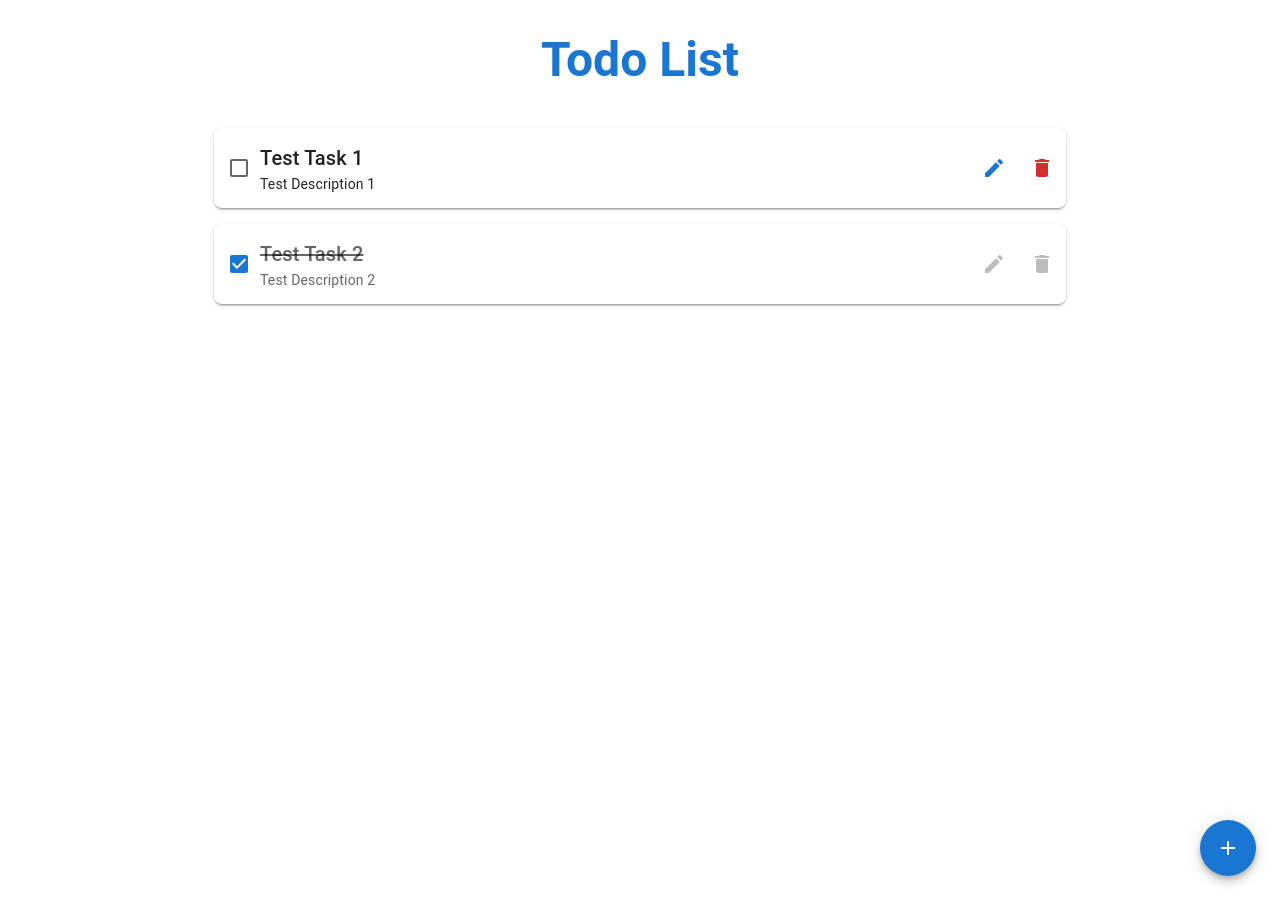
TodoList Component › should edit a task successfully
The width and height of the screenshot is (1280, 900).
Expected: the heading "Test Task 1" is shown, [260,146,364,170]
Note: Click edit button
Click the button named "edit" in the row of "Test Task 1" at (994, 168), box [974,148,1014,188]
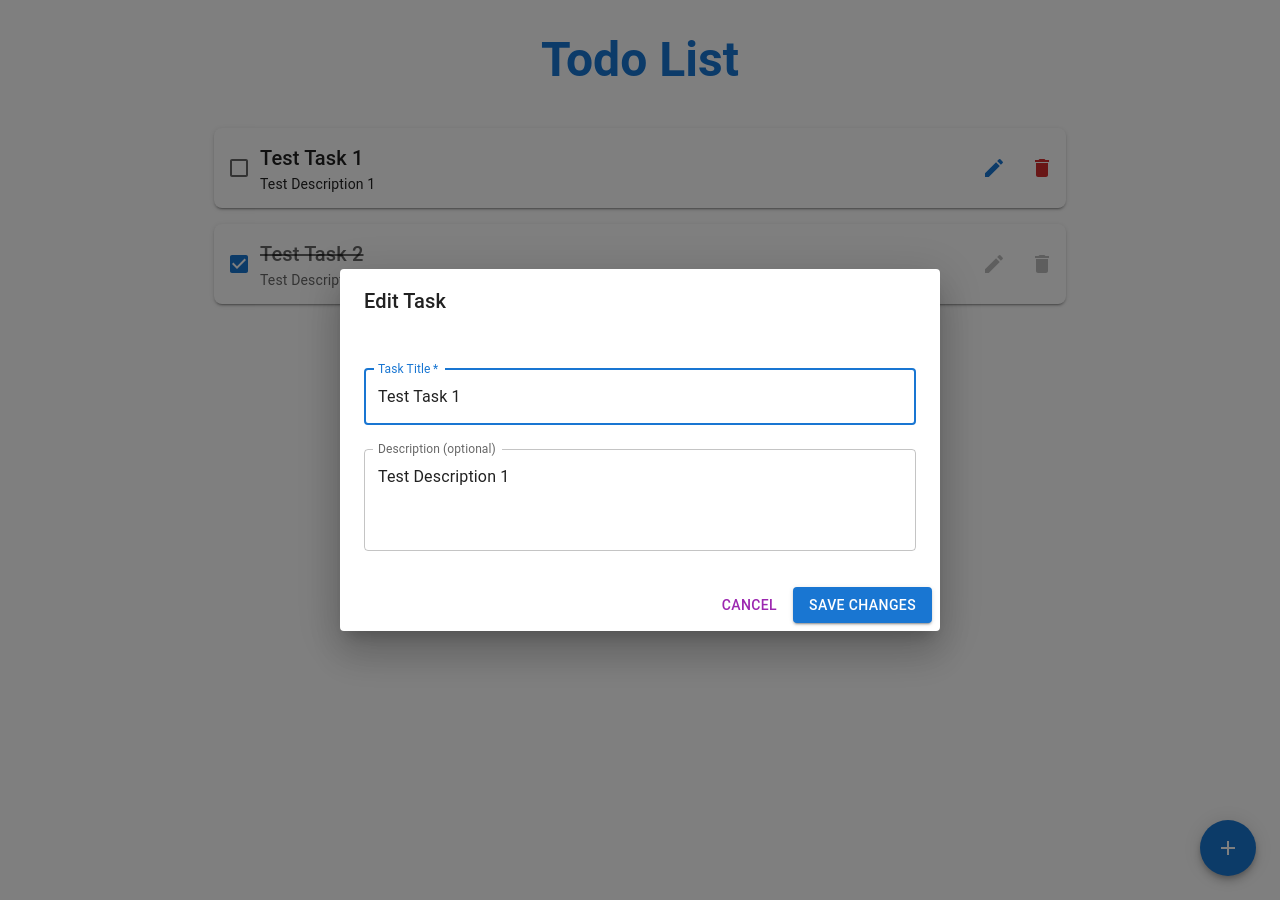
Note: Fill in the edit form
Replace the text in the field labelled "Task Title *" with "Updated Task" at (640, 397), box [364,369,916,425]
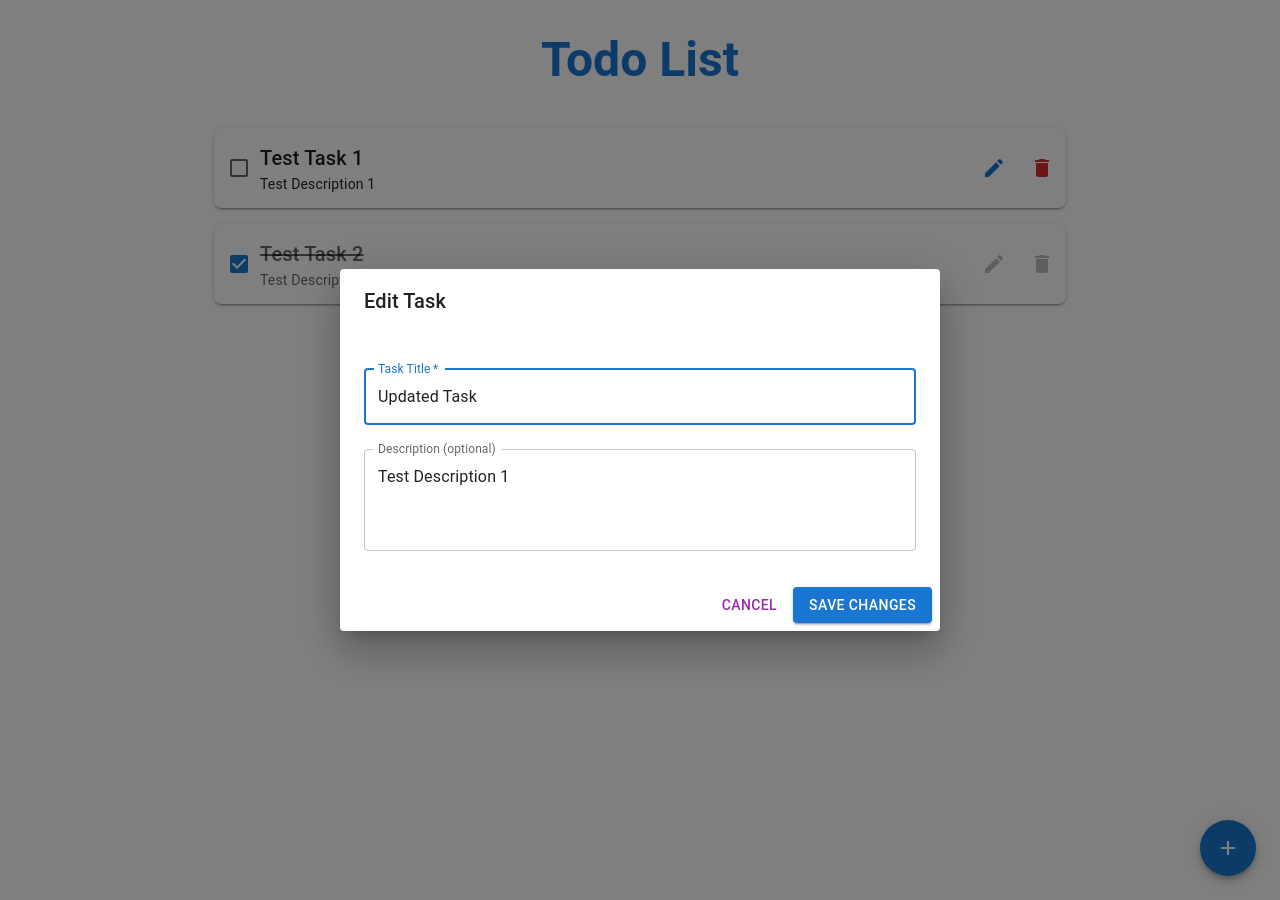
Replace the text in the text box labelled "Description (optional)" with "Updated Description" at (640, 500), box [378,465,902,534]
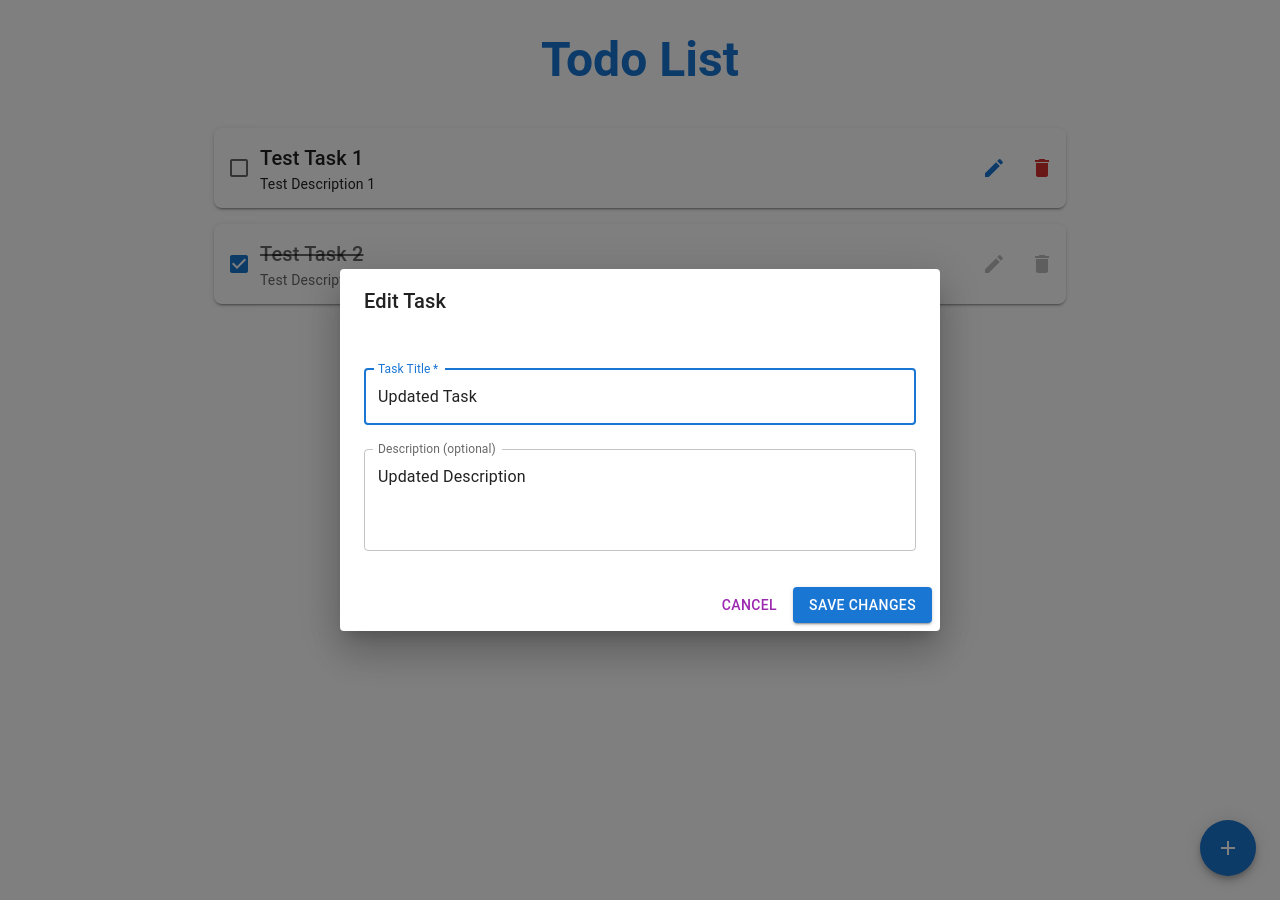
Note: Click save button
Click the button "Save Changes" at (863, 605), box [793,587,932,623]
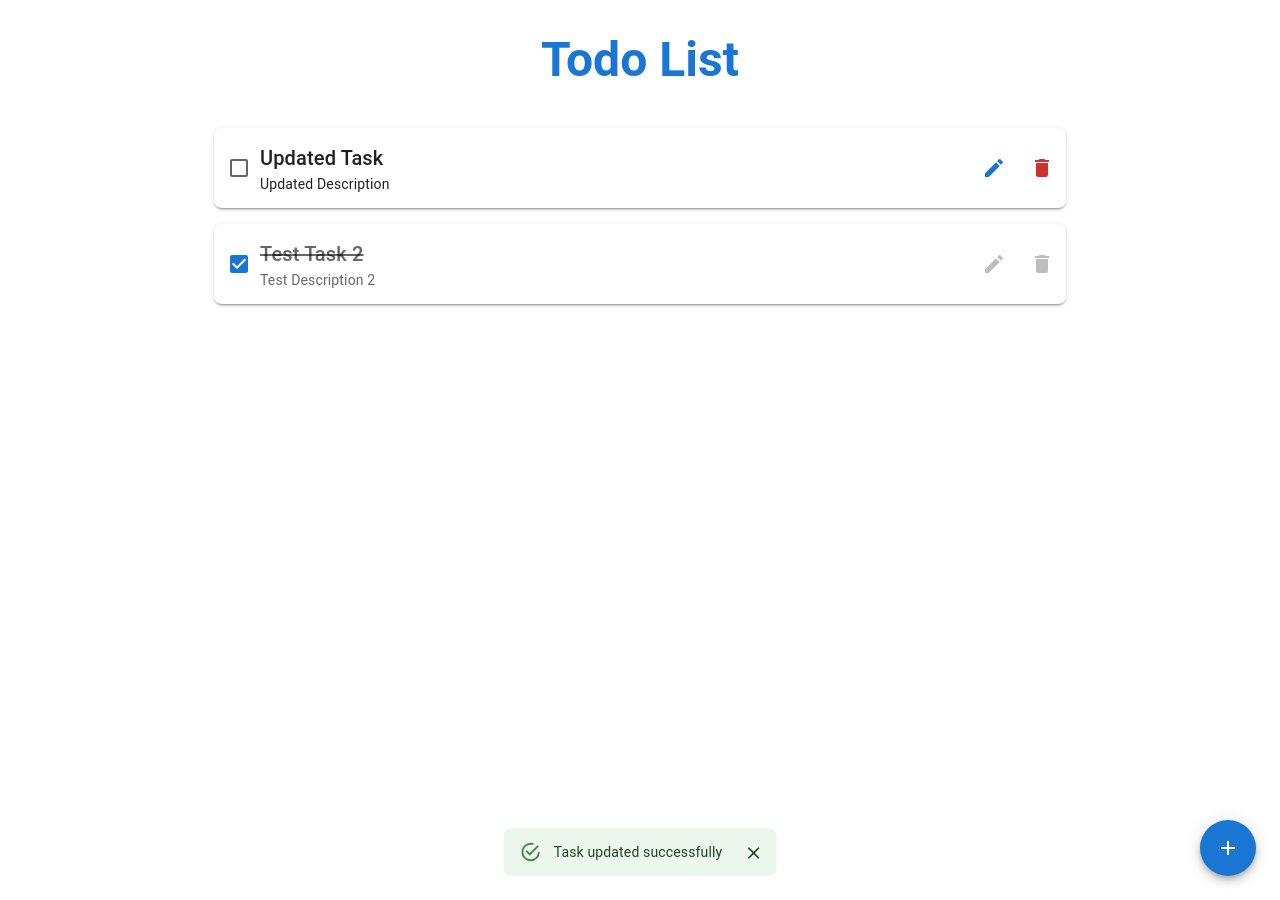
Result: the heading "Updated Task" is shown at [260,146,383,170]
